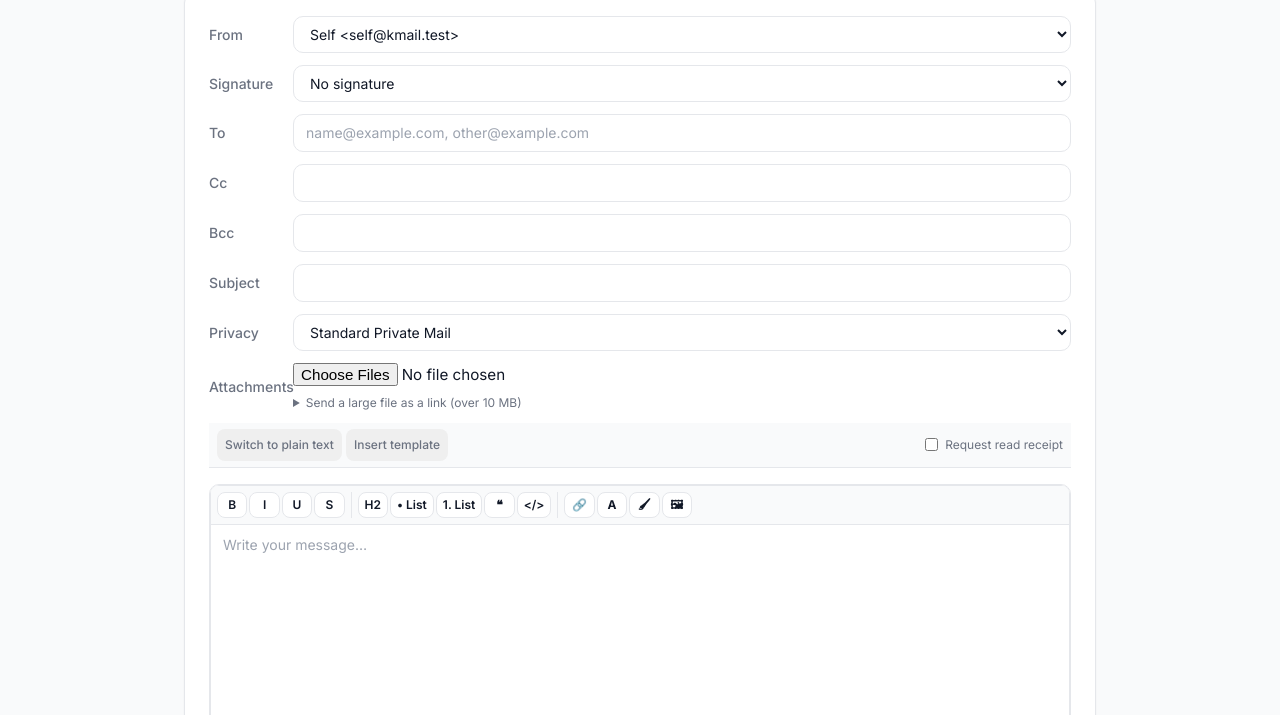
Test: <Compose /> › disables the Send button until a To address is typed
Type "alice@example.com" into the dropdown labelled "To" at (682,133), box [293,114,1071,152]
(page scrolled)
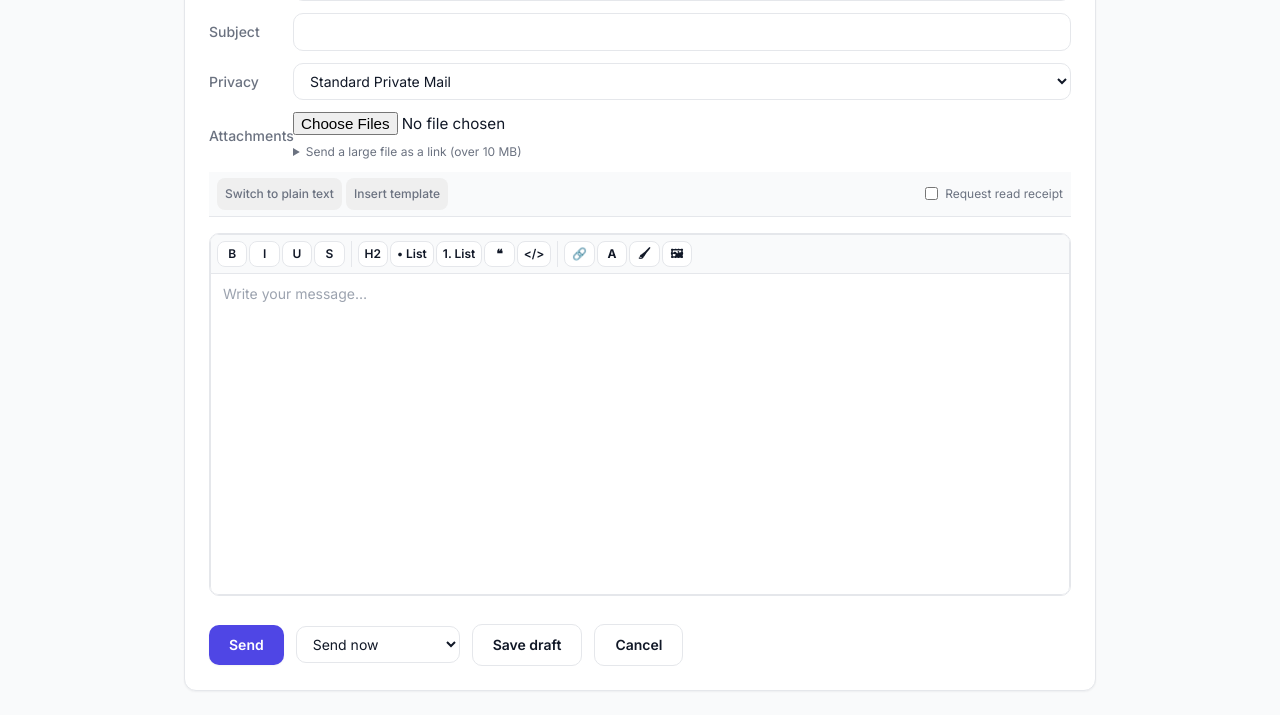
Now the button "Send" is enabled, box [209,625,284,665]
